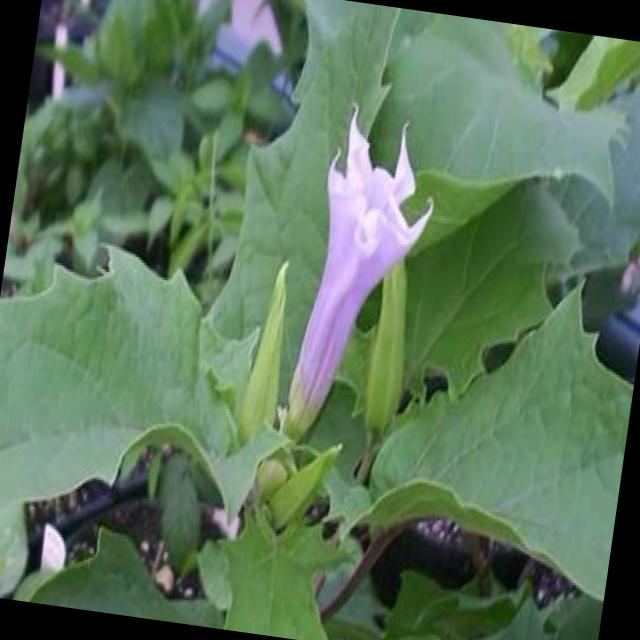Poisonous-Datura_Stramonium: (0, 214, 427, 640), (250, 80, 470, 473)
